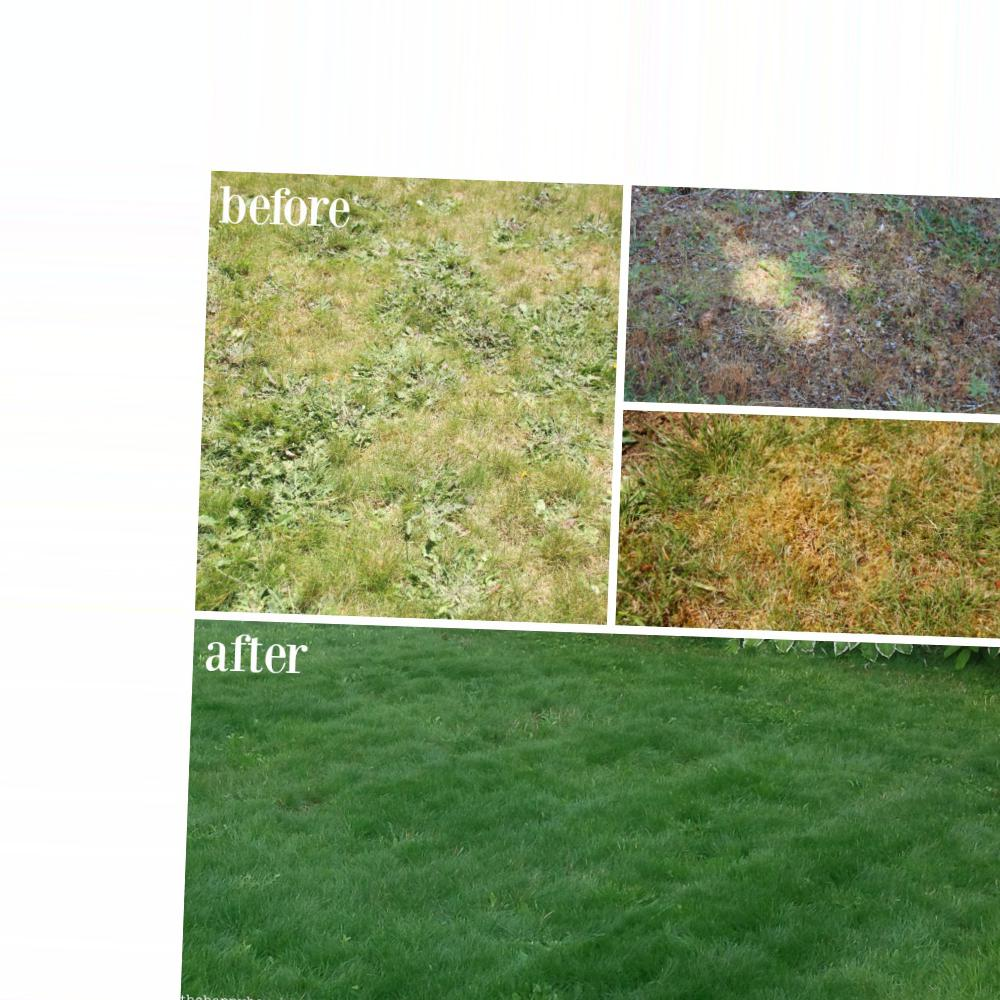patch: (400, 381, 511, 479), (693, 494, 817, 575), (276, 267, 367, 358), (305, 501, 398, 585), (490, 504, 562, 592), (733, 588, 831, 631), (430, 318, 500, 373), (818, 446, 890, 490), (479, 250, 557, 289), (833, 517, 884, 574), (736, 259, 789, 301), (714, 222, 760, 253), (804, 312, 839, 343), (828, 253, 859, 286)
